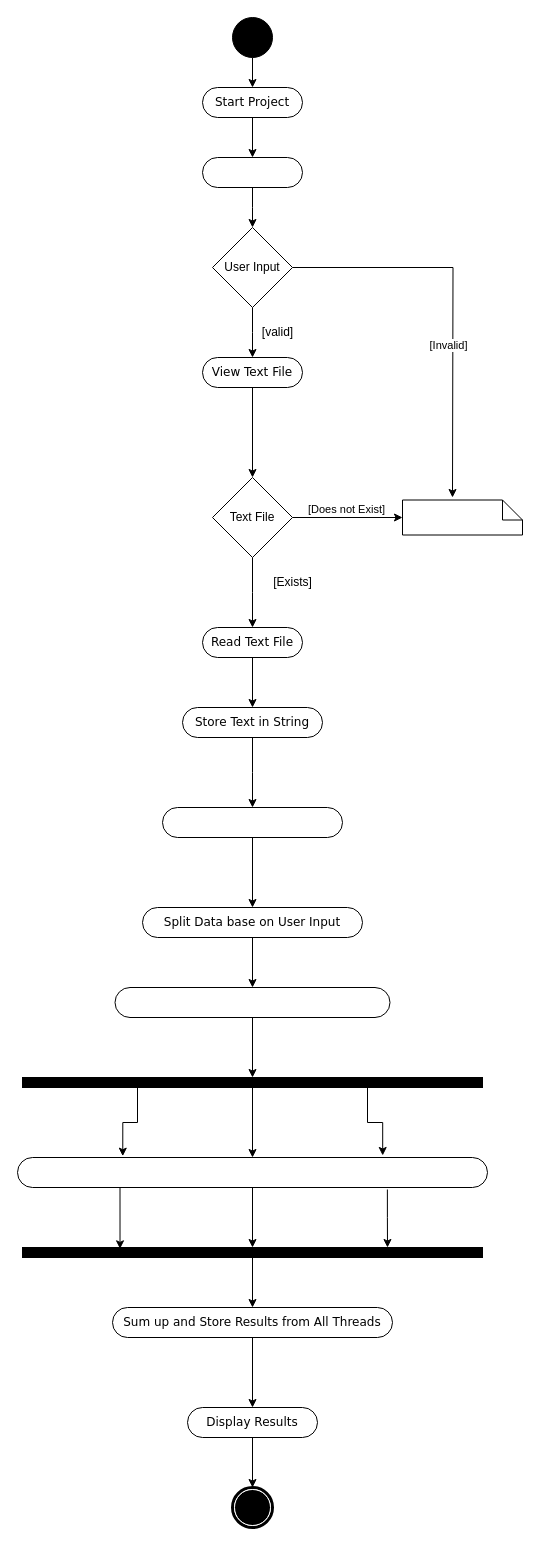
Image size: 540x1545. Some labels were removed from this diagram. The box of each missing label's shape, as (x1, y1, x2, y2) in pixels:
Ask for Input: (202, 156, 302, 188)
Create Threads Based on User Input: (114, 986, 390, 1018)
Process Data independently by Separate Threads and Store Results: (16, 1156, 488, 1188)
Raise Error: (402, 499, 522, 535)
Split Data by User Input: (162, 806, 342, 838)
